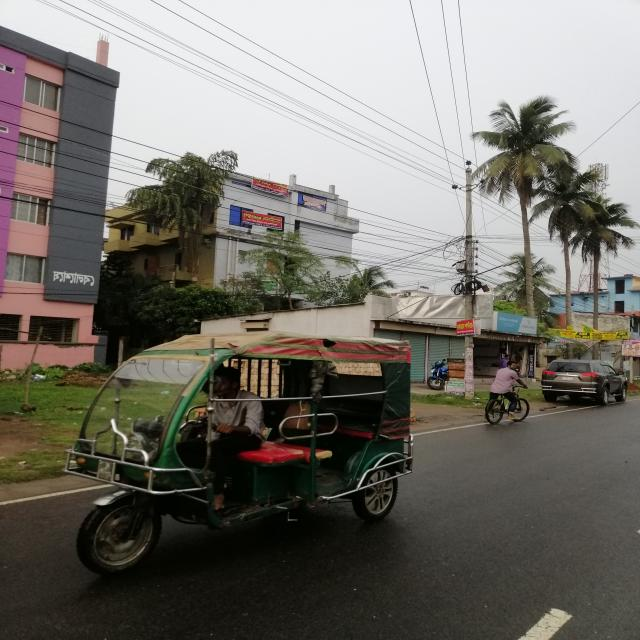Bicycle: (483, 385, 530, 430)
Easybike: (62, 333, 417, 572)
Zeep: (543, 359, 629, 412)
